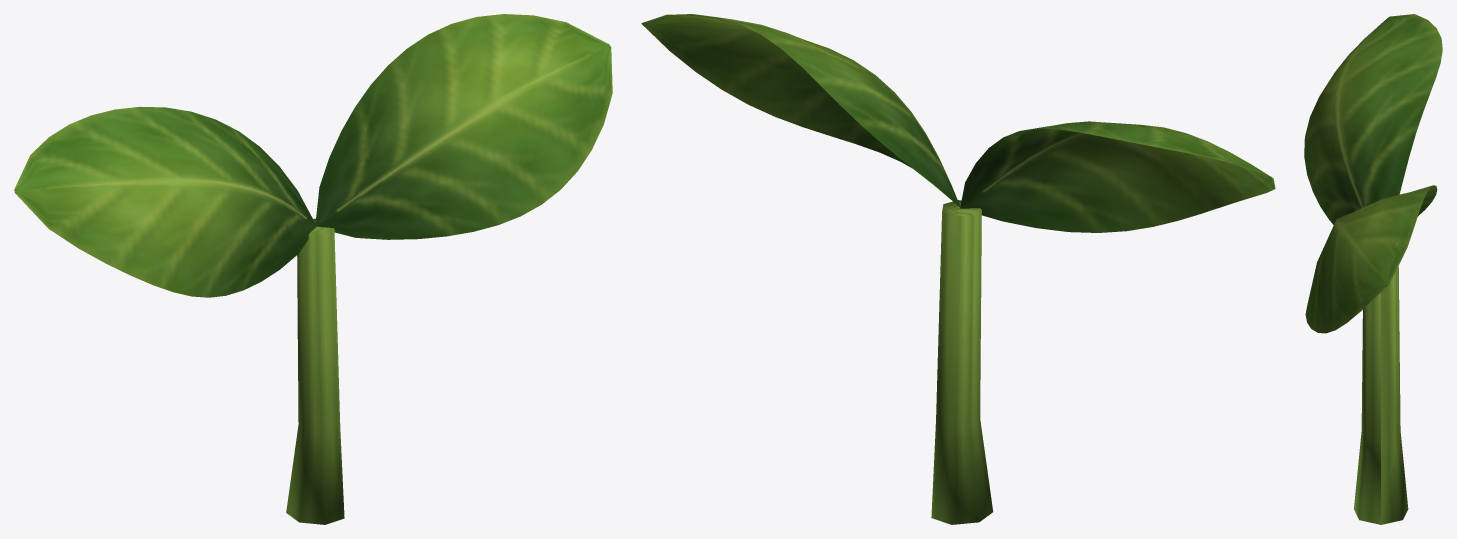
Rendered from NP_Daisy_Sprout.fbx.
3 views of the same model, side by side, from view 1: azimuth 30°, elevation 25°; view 2: azimuth 150°, elevation 25°; view 3: azimuth 270°, elevation 25° (orthographic). The views are drawn at different scales.
Visible parts, largest first — view 1: NP_Daisy_Sprout.001; view 2: NP_Daisy_Sprout.001; view 3: NP_Daisy_Sprout.001.
Part boxes in pixels (<box>): NP_Daisy_Sprout.001: <box>14,14,612,524</box>; NP_Daisy_Sprout.001: <box>641,14,1275,524</box>; NP_Daisy_Sprout.001: <box>1304,14,1442,524</box>.
Size of the model in its own units: 31.81 by 22.15 by 6.95.
